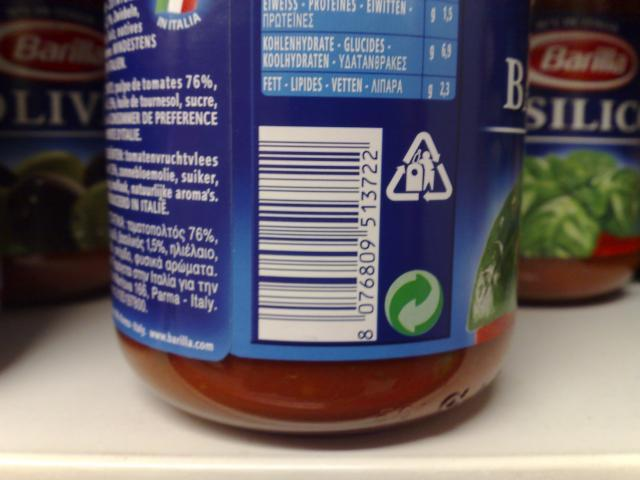Barcode: (256, 125, 382, 345)
